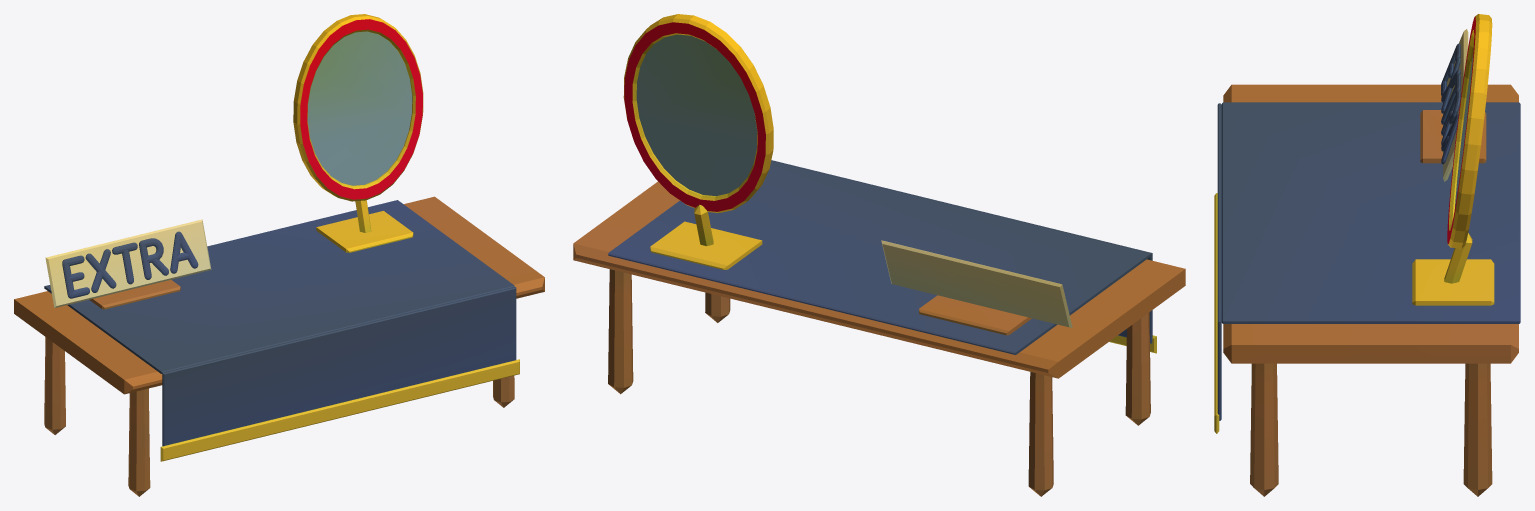
Rendered from Prop_AccessoryTable.glb.
3 renders of one model, left to right at view 1: azimuth 30°, elevation 25°; view 2: azimuth 150°, elevation 25°; view 3: azimuth 270°, elevation 25°, orthographic. The views are drawn at different scales.
Parts seen in each view (by area): view 1: Table; view 2: Table; view 3: Table.
Boxes of the visible parts, x1,y1,x2,y2 form: Table: (14, 14, 544, 496); Table: (573, 14, 1185, 496); Table: (1214, 14, 1520, 496).
Bounding box in the file's own units: 1.5 × 1.17 × 0.746.
